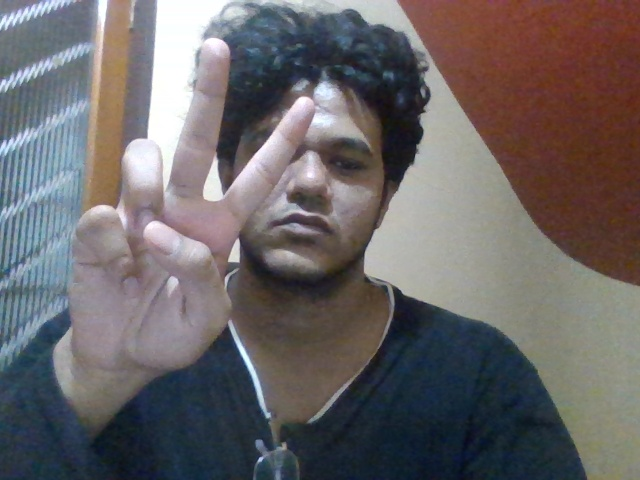yes: (46, 48, 320, 367)
